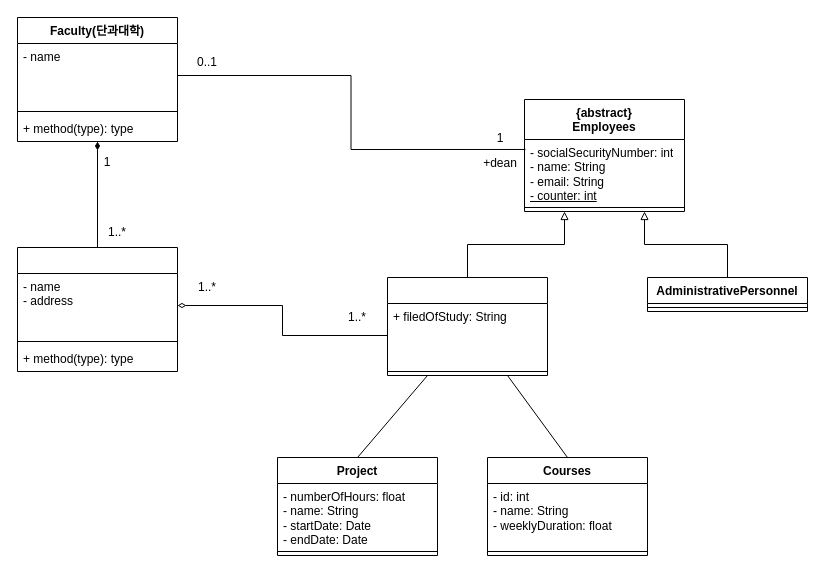
The diagram is 825 pixels wide and 573 high, and some of its shapes have lost their labels. Here are the shapes that lost their labels. From the top down, the box of each, then its label:
(16, 246, 178, 372): Institute(학과)
(386, 276, 548, 376): ResearchAssociates
